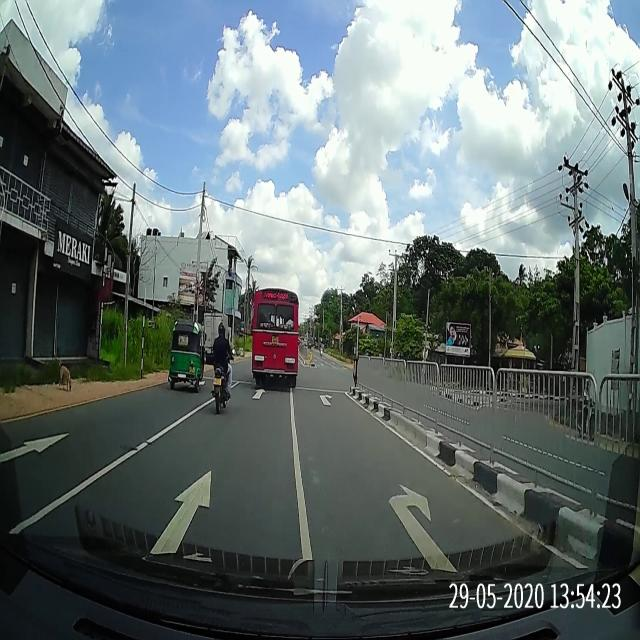Strelka vpered: (146, 467, 213, 555), (1, 431, 73, 466)
Strelka vpravo: (384, 481, 464, 576)
